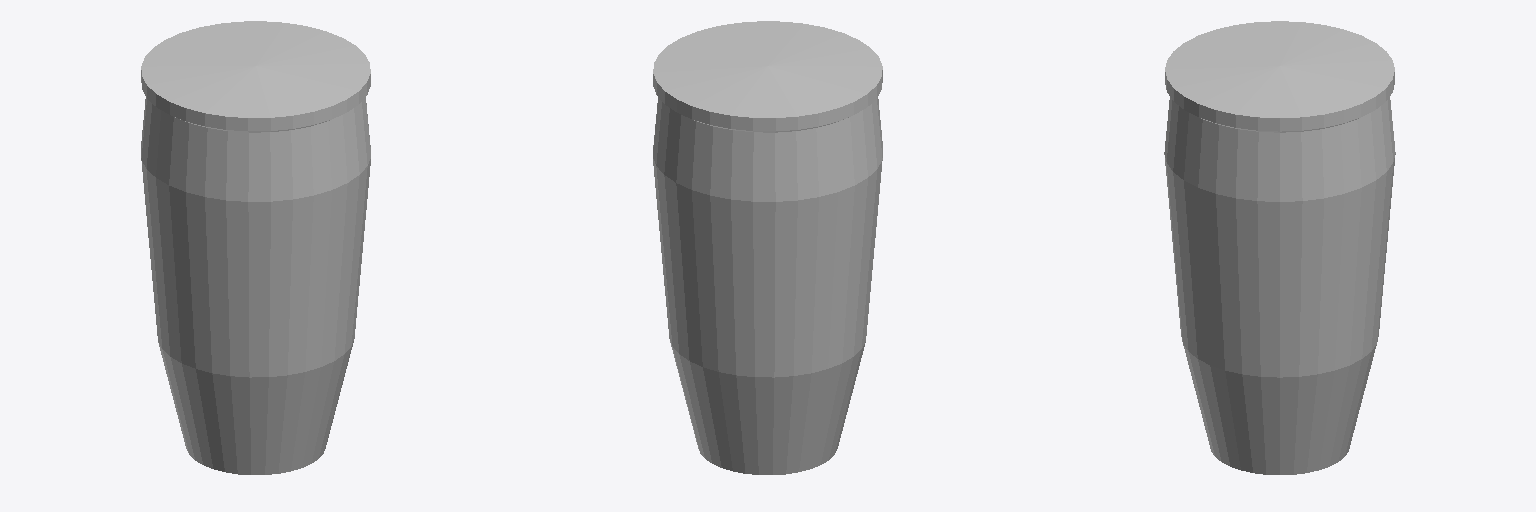
File: conga.obj
The picture shows the model from 3 angles: view 1: azimuth 30°, elevation 25°; view 2: azimuth 150°, elevation 25°; view 3: azimuth 270°, elevation 25°; orthographic projection.
Parts seen in each view (by area): view 1: Circle; view 2: Circle; view 3: Circle.
Part boxes in pixels (bbox=[...]): Circle: bbox=[141, 21, 370, 474]; Circle: bbox=[653, 21, 882, 474]; Circle: bbox=[1164, 21, 1395, 474].
Size of the model in its own units: 2.25 by 4.07 by 2.25.